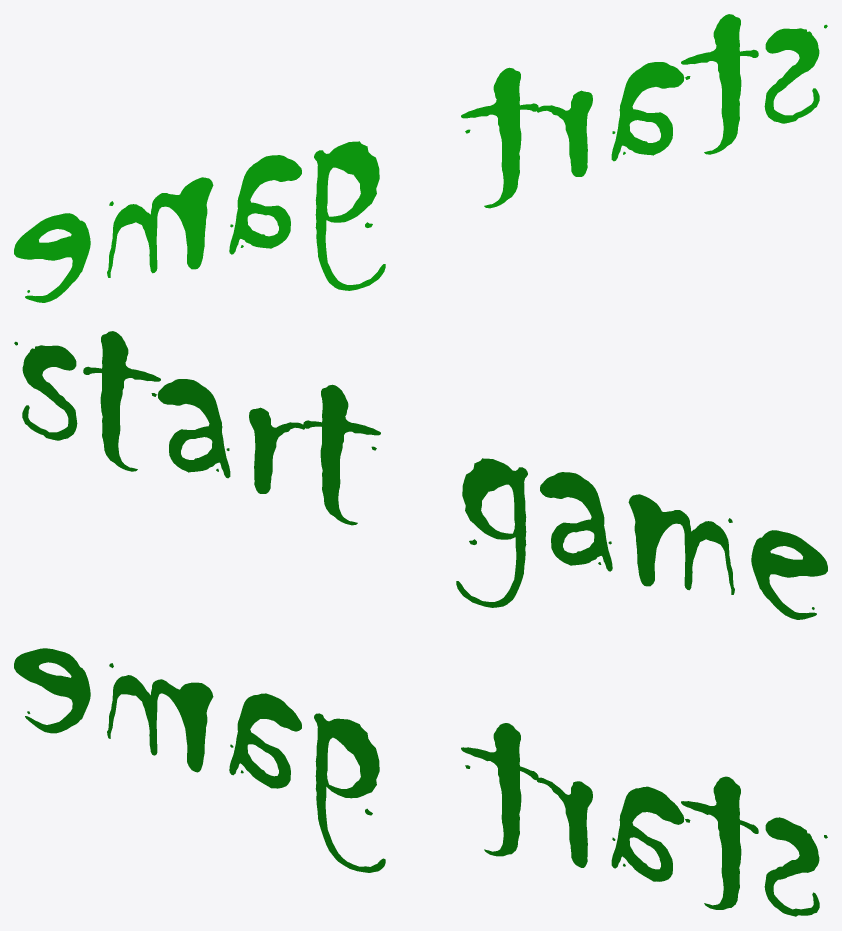
Rendered from startGameButtonText.obj.
3 renders of one model, top to bottom at view 1: azimuth 30°, elevation 25°; view 2: azimuth 150°, elevation 25°; view 3: azimuth 330°, elevation 25°, orthographic.
Parts seen in each view (by area): view 1: startGameButtonText; view 2: startGameButtonText; view 3: startGameButtonText.
Boxes of the visible parts, x1,y1,x2,y2 form: startGameButtonText: [14, 14, 827, 302]; startGameButtonText: [14, 331, 827, 619]; startGameButtonText: [14, 648, 827, 916].
Size of the model in its own units: 2.64 by 0.573 by 0.
